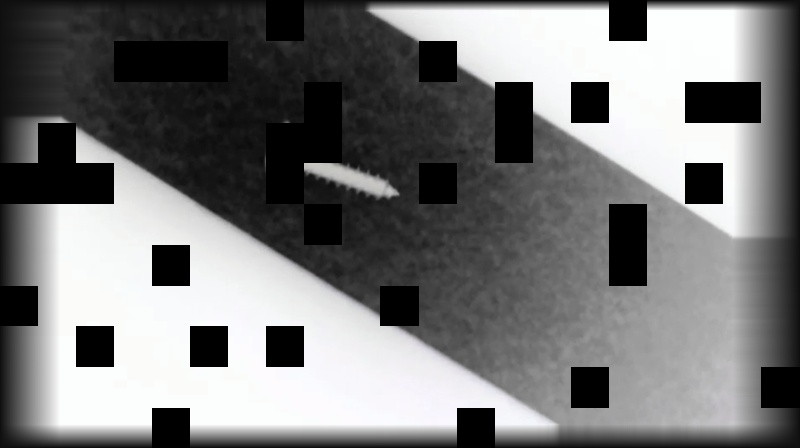S003: (261, 117, 404, 202)
